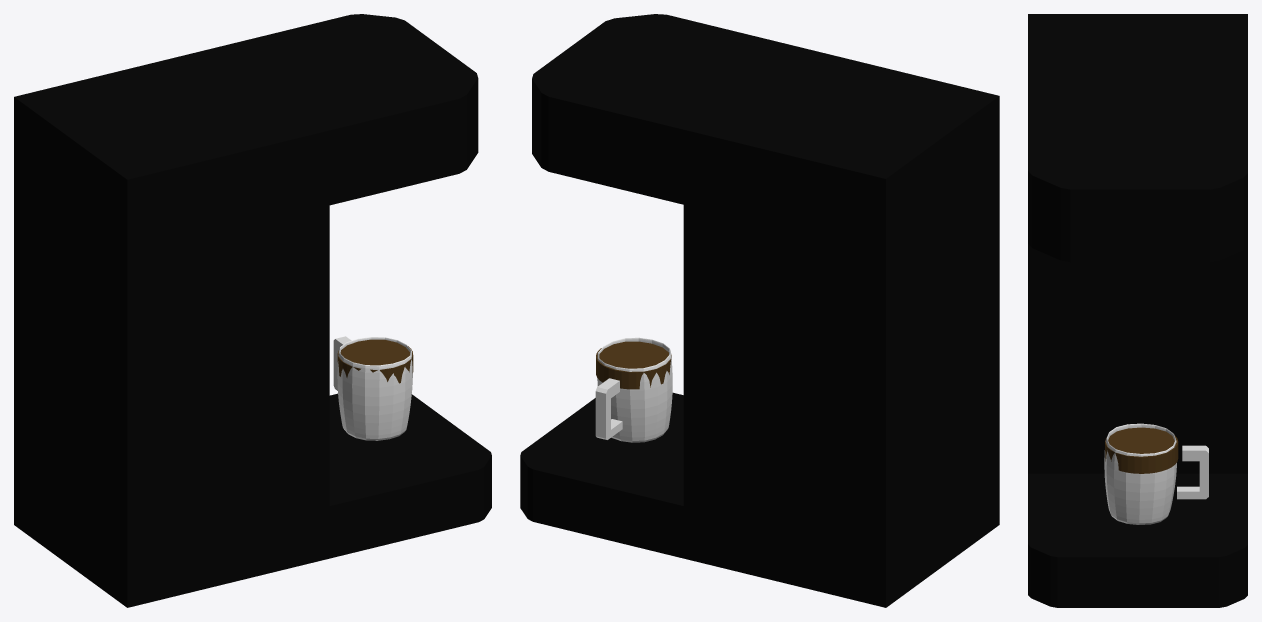
The model's file is Coffee.fbx.
The picture shows the model from 3 angles, left to right: view 1: azimuth 30°, elevation 25°; view 2: azimuth 150°, elevation 25°; view 3: azimuth 270°, elevation 25°; orthographic projection. The views are drawn at different scales.
Visible parts, largest first — view 1: Cube.003, Cube.004, Cylinder.008; view 2: Cube.003, Cube.004, Cylinder.008, Cube.005; view 3: Cube.003, Cube.004, Cylinder.008, Cube.005.
Part boxes in pixels (<box>): Cube.003: <box>14,14,491,607</box>; Cube.004: <box>337,337,412,440</box>; Cylinder.008: <box>337,339,413,383</box>; Cube.003: <box>520,14,999,607</box>; Cube.004: <box>597,337,672,442</box>; Cylinder.008: <box>596,341,671,389</box>; Cube.005: <box>595,378,622,439</box>; Cube.003: <box>1028,14,1247,607</box>; Cube.004: <box>1104,423,1176,524</box>; Cylinder.008: <box>1105,427,1178,473</box>; Cube.005: <box>1177,445,1208,499</box>.
Size of the model in its own units: 116 by 125 by 60.
